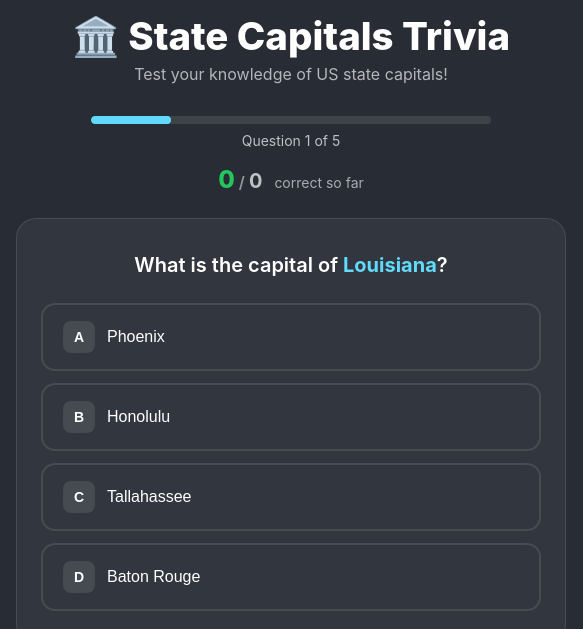
StateCapitalsPage – results screen › displays the final score out of 5
Click the button with aria-label "Answer option:" at (79, 337), box [41,303,541,371]
Wait 1300 ms
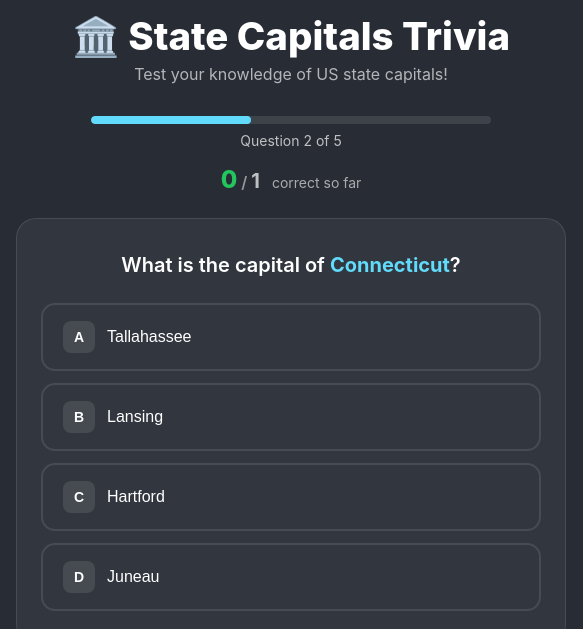
Click the button with aria-label "Answer option:" at (79, 337), box [41,303,541,371]
Wait 1300 ms
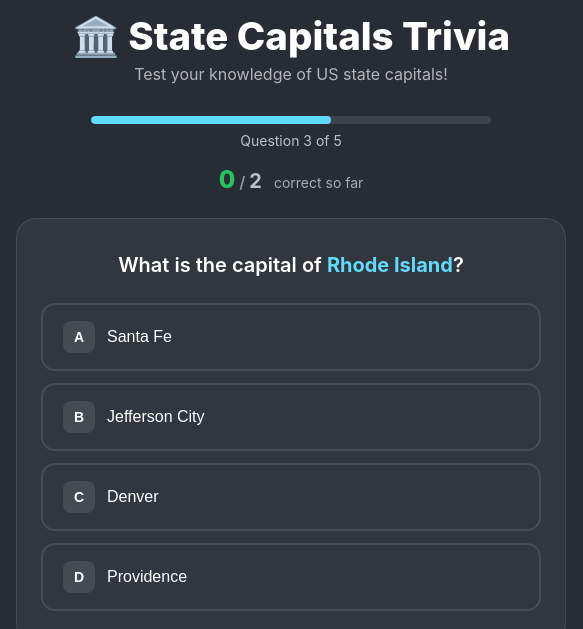
Click the button with aria-label "Answer option:" at (79, 337), box [41,303,541,371]
Wait 1300 ms
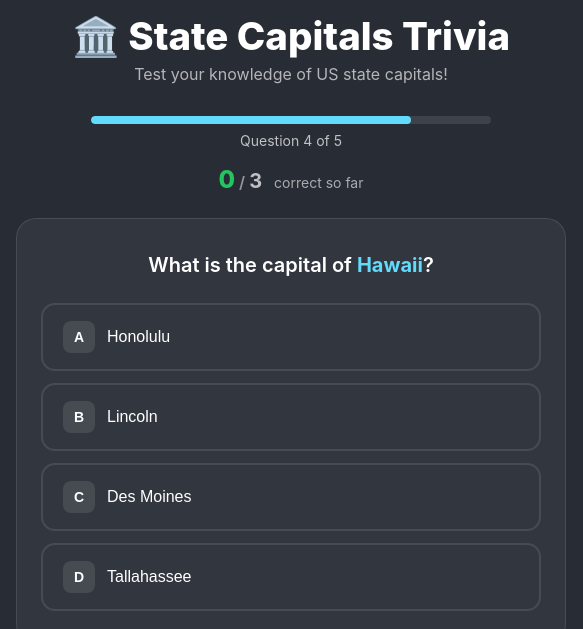
Click the button with aria-label "Answer option:" at (79, 337), box [41,303,541,371]
Wait 1300 ms
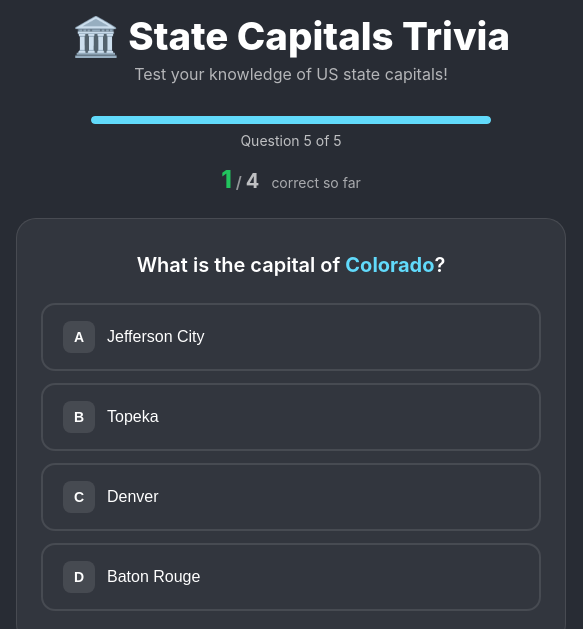
Click the button with aria-label "Answer option:" at (79, 337), box [41,303,541,371]
Wait 1300 ms
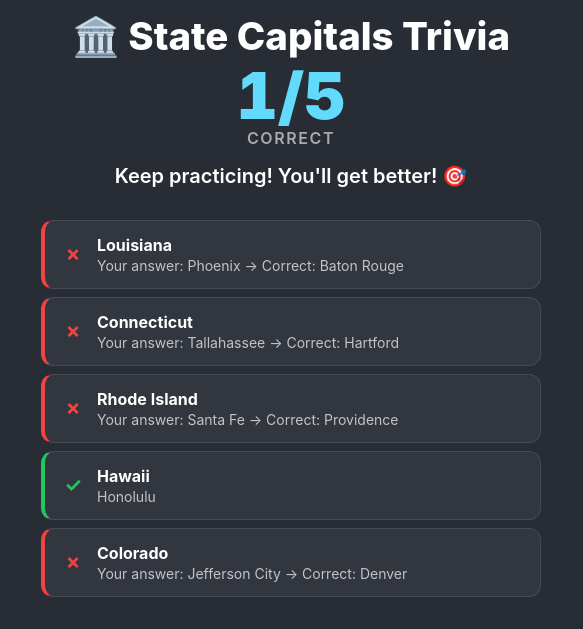
Now the text named "final score" shows "/5", box [237,64,346,128]
